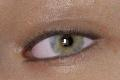eye: (51, 33, 84, 56)
